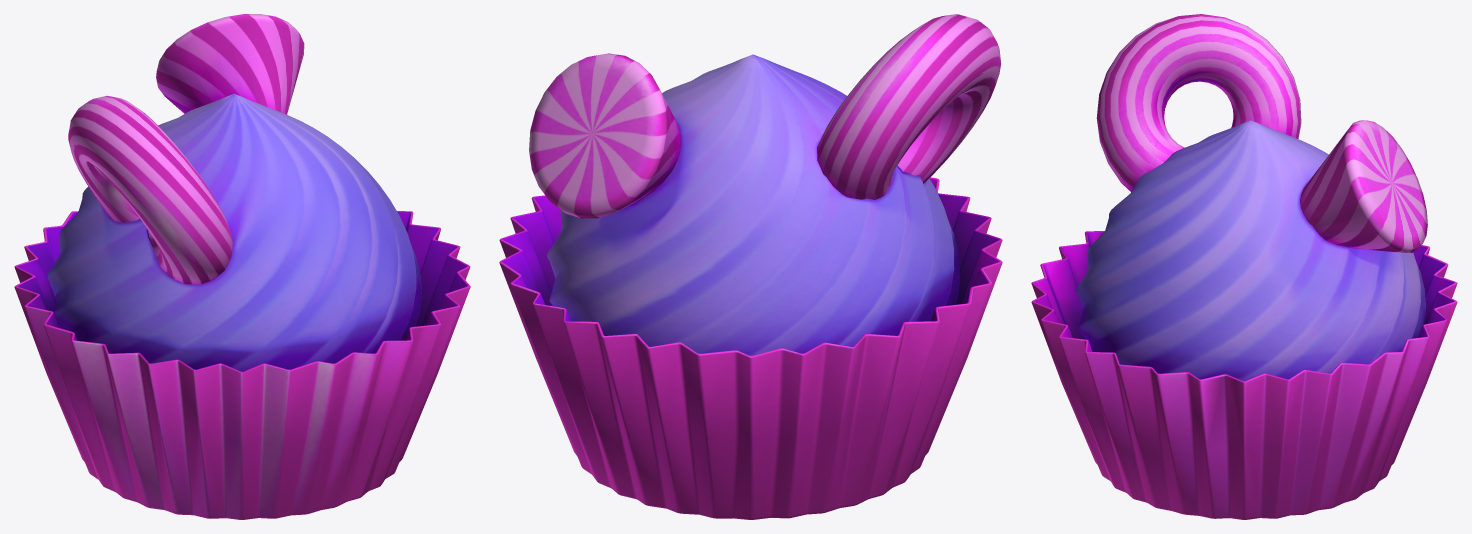
The model's file is cupcake - copia.glb.
3 views of the same model, side by side, from view 1: azimuth 30°, elevation 25°; view 2: azimuth 150°, elevation 25°; view 3: azimuth 270°, elevation 25° (orthographic). The views are drawn at different scales.
Visible parts, largest first — view 1: Cream_low, Cup_low, Torus_low, Cone_low; view 2: Cream_low, Cup_low, Torus_low, Cone_low; view 3: Cream_low, Cup_low, Torus_low, Cone_low.
Part boxes in pixels (<box>): Cream_low: <box>47,94,421,371</box>; Cup_low: <box>14,211,470,519</box>; Torus_low: <box>68,95,232,284</box>; Cone_low: <box>156,14,304,114</box>; Cream_low: <box>547,54,960,355</box>; Cup_low: <box>499,177,1002,519</box>; Torus_low: <box>817,14,1001,199</box>; Cone_low: <box>529,53,681,218</box>; Cream_low: <box>1076,120,1425,381</box>; Cup_low: <box>1031,231,1457,519</box>; Torus_low: <box>1096,14,1301,191</box>; Cone_low: <box>1300,120,1427,252</box>.
Bounding box in the file's own units: 2.94 × 2.83 × 2.92.
Materials: 1 (1 with a texture image).
